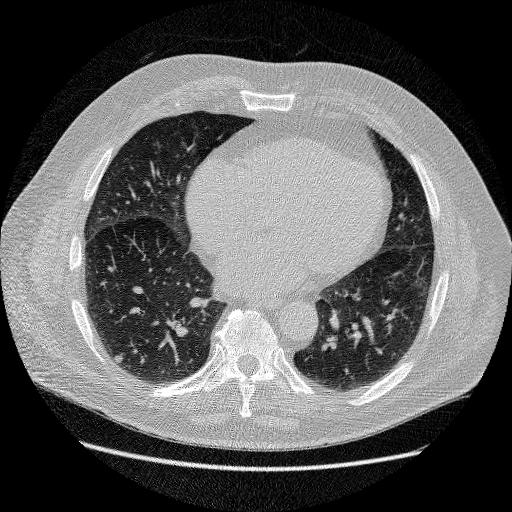nodule: (111, 352, 125, 366)
